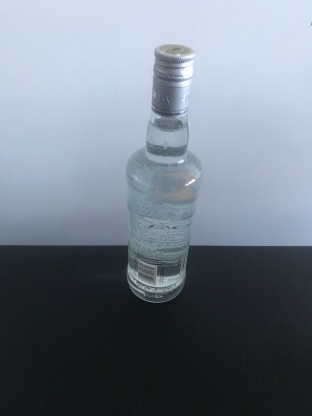nakretka: (149, 41, 196, 121)
